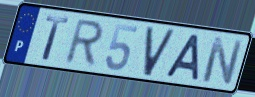5: (104, 22, 140, 72)
A: (163, 32, 201, 82)
N: (200, 35, 245, 87)
R: (62, 18, 106, 68)
T: (40, 14, 71, 62)
V: (141, 25, 178, 79)
